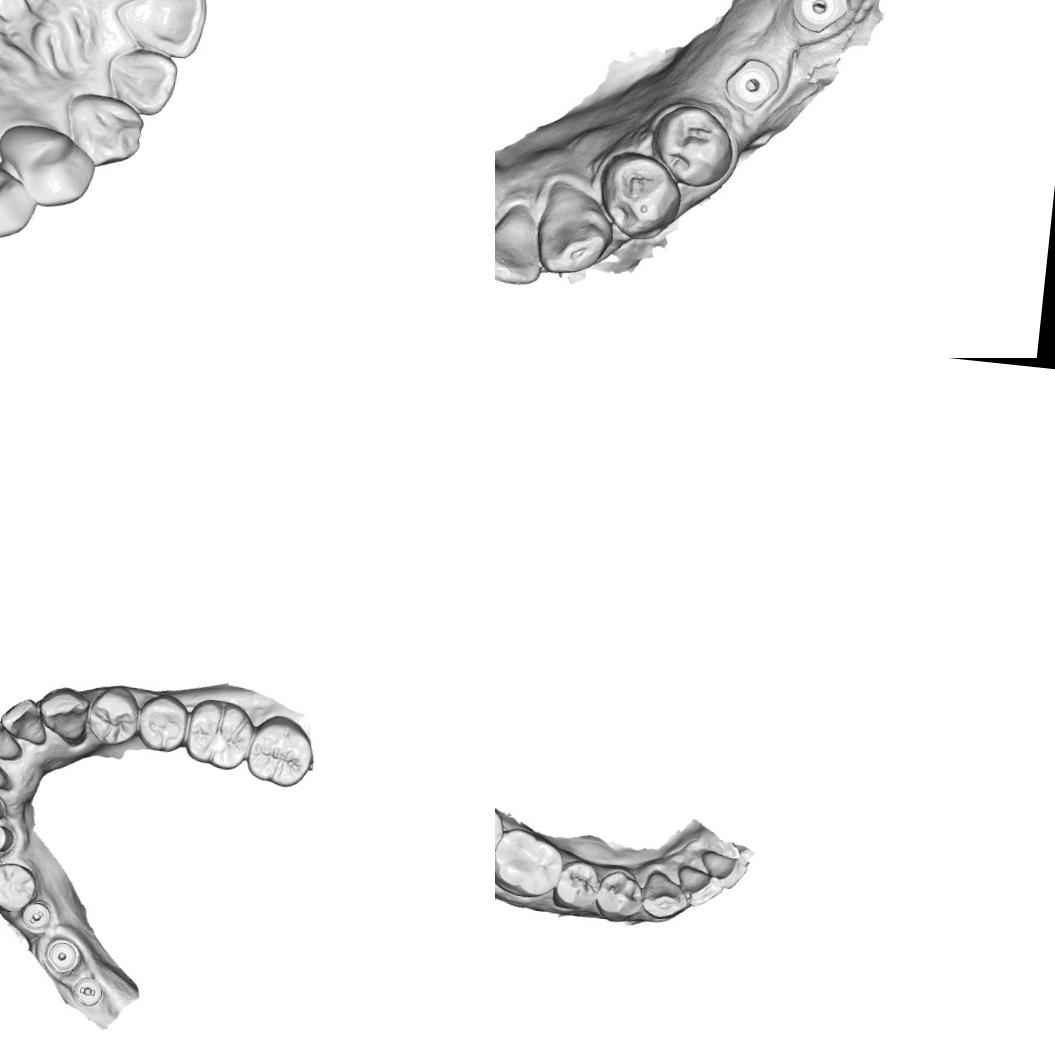canine: (536, 176, 618, 282), (62, 83, 146, 172), (35, 684, 92, 744), (638, 866, 692, 924)
implant: (722, 50, 785, 115), (787, 0, 854, 38), (42, 936, 82, 975)
implant_minus: (68, 972, 106, 1012), (20, 898, 52, 934), (0, 788, 7, 823)
implant_plus: (0, 820, 16, 856)
incisor: (109, 0, 212, 63), (106, 45, 182, 119), (495, 200, 548, 290), (0, 694, 52, 746), (673, 862, 726, 910), (696, 847, 750, 892), (0, 715, 26, 762)
molar: (182, 696, 256, 774), (244, 712, 317, 790), (495, 825, 568, 902)
premolar: (0, 117, 101, 211), (596, 148, 688, 241), (644, 100, 736, 190), (0, 146, 39, 246), (84, 682, 142, 749), (134, 690, 190, 754), (593, 866, 645, 926), (551, 855, 603, 913), (0, 859, 40, 916)
